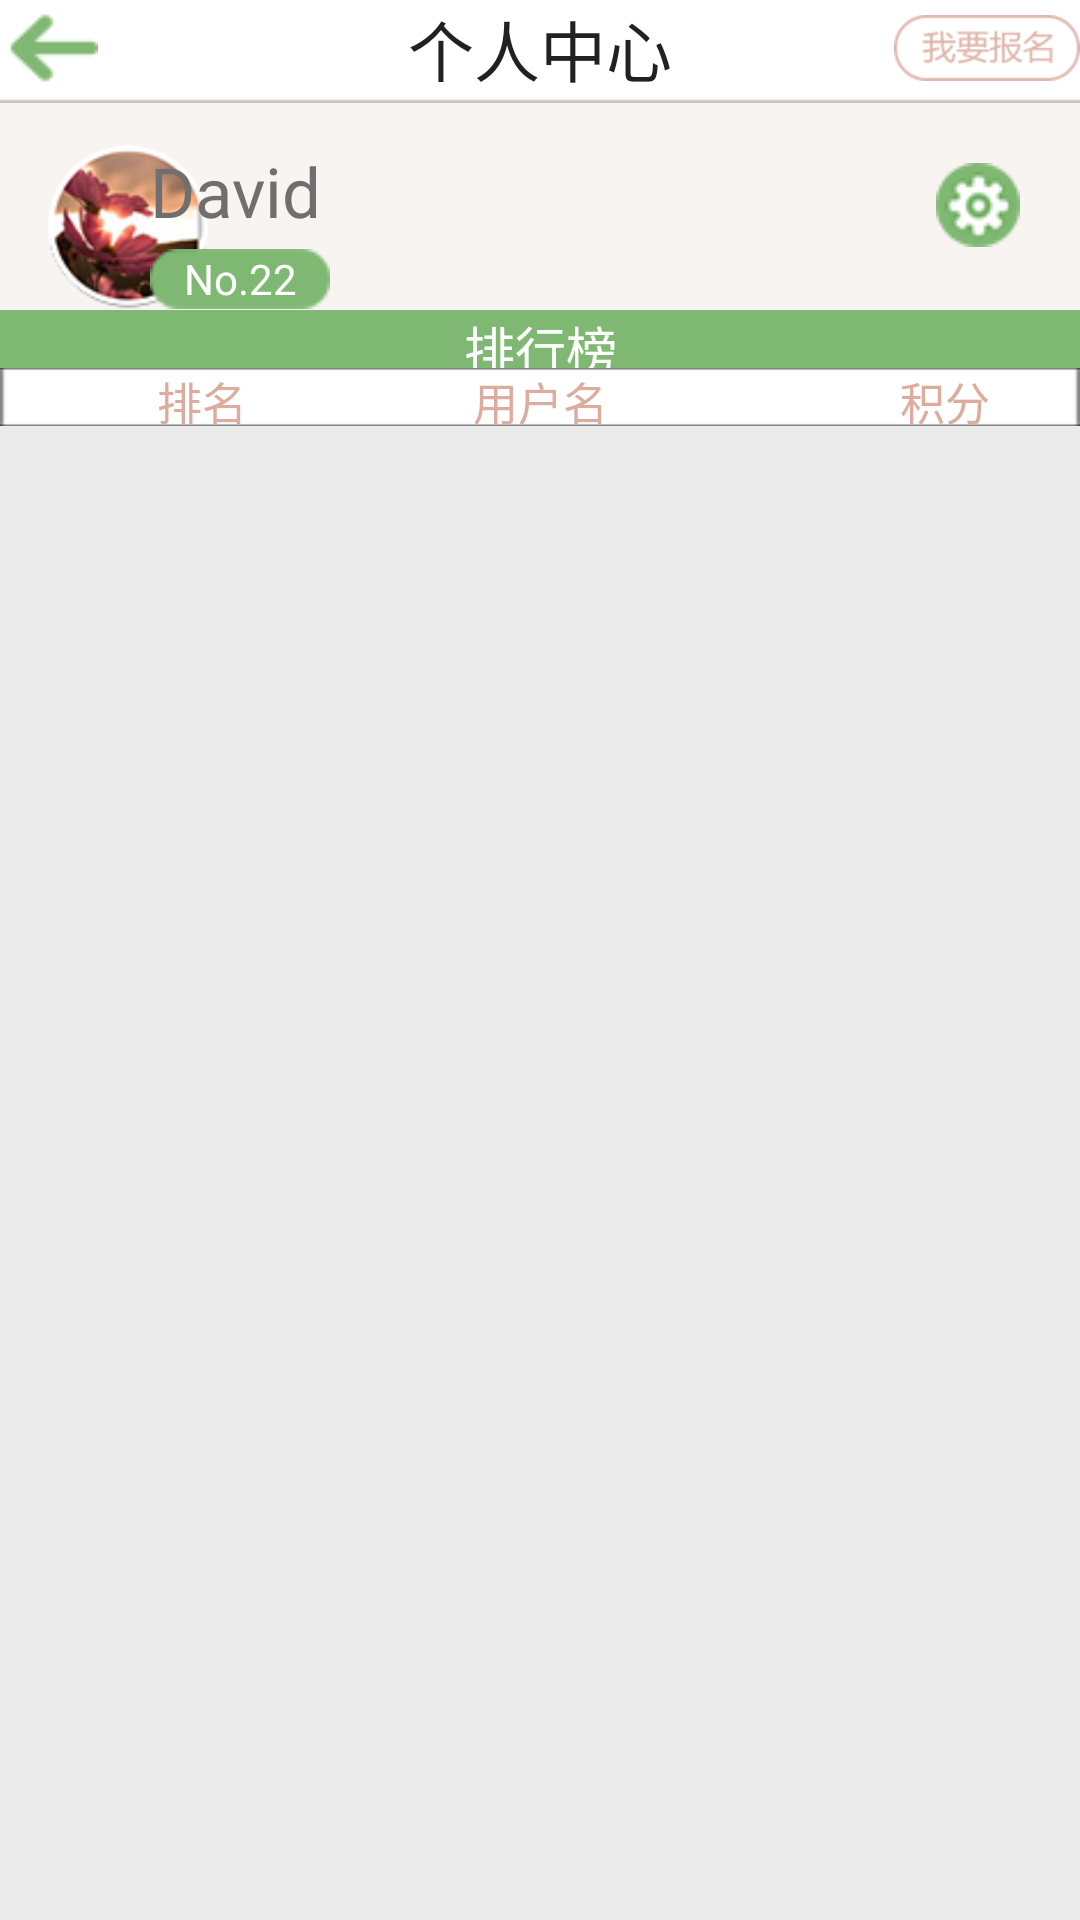

Icon click points for this 1080*1920 phone screenshot, format (x,y):
navigationbar backbutton: (54,48)
photo: (142,230)
set: (978,205)
